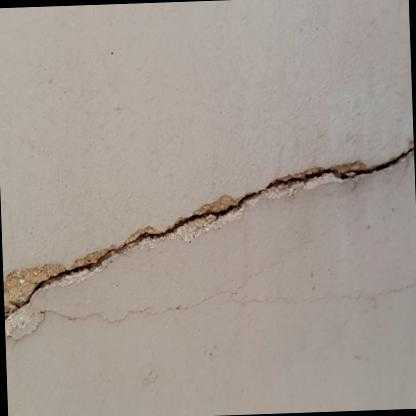crack: (2, 131, 414, 323)
